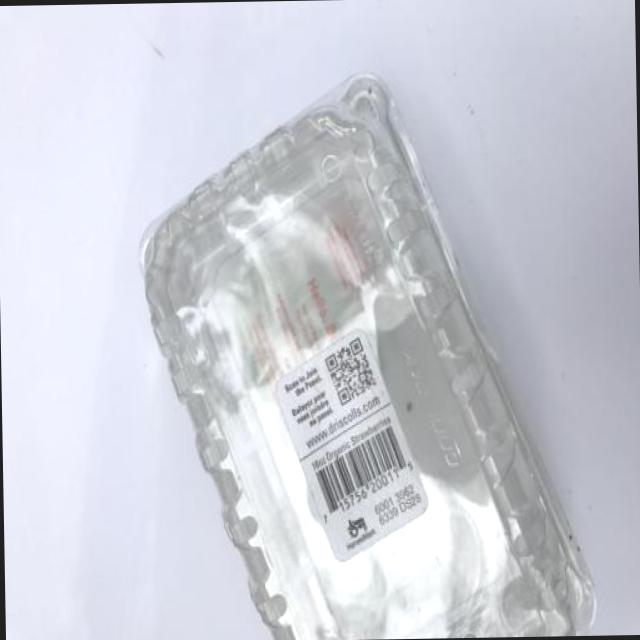Recycle: (136, 73, 597, 640)
